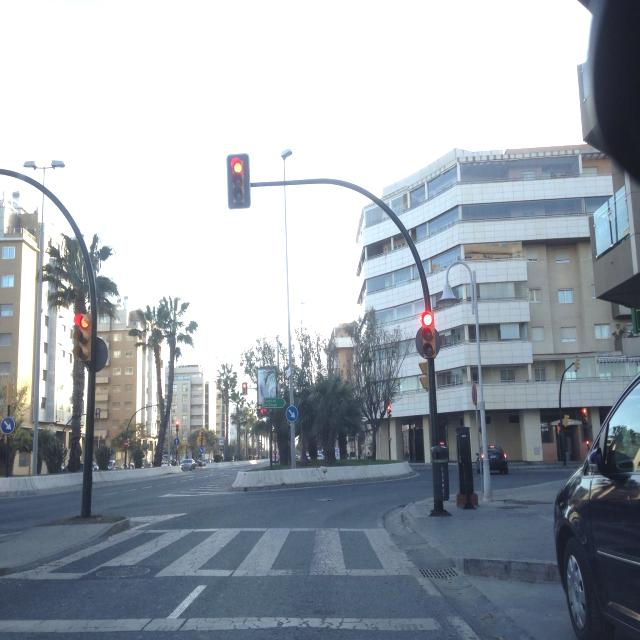car: (553, 333, 640, 640), (474, 444, 508, 475), (180, 458, 197, 471)
